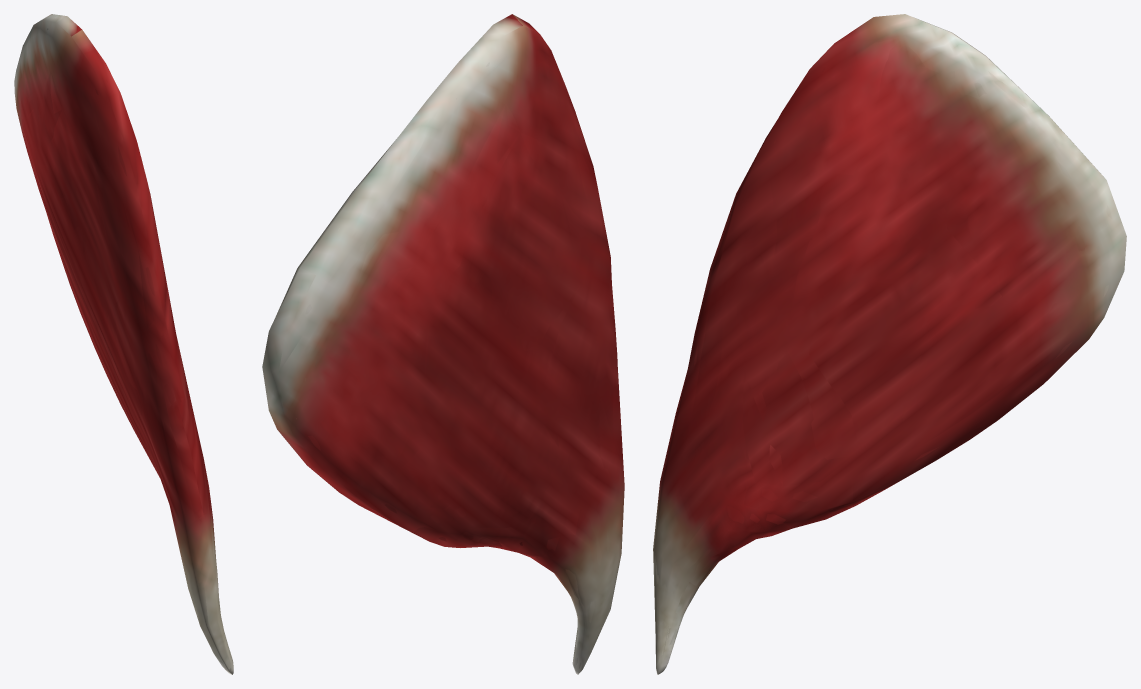
File: L Subscapularis.fbx
3 views of the same model, side by side, from view 1: azimuth 30°, elevation 25°; view 2: azimuth 150°, elevation 25°; view 3: azimuth 270°, elevation 25° (orthographic). The views are drawn at different scales.
Visible parts, largest first — view 1: L Subscapularis, L Subscapularis low, L Subscapularis high; view 2: L Subscapularis, L Subscapularis low, L Subscapularis high; view 3: L Subscapularis, L Subscapularis low, L Subscapularis high.
Boxes of the visible parts, <box> form: L Subscapularis: <box>14,14,233,674</box>; L Subscapularis low: <box>14,16,233,673</box>; L Subscapularis high: <box>17,18,231,665</box>; L Subscapularis: <box>262,14,624,674</box>; L Subscapularis low: <box>270,24,624,674</box>; L Subscapularis high: <box>273,24,621,668</box>; L Subscapularis: <box>653,14,1126,674</box>; L Subscapularis low: <box>653,14,1126,667</box>; L Subscapularis high: <box>654,46,1111,657</box>.
Bounding box in the file's own units: 1.29 × 7.57 × 5.12.
Materials: 1 (1 with a texture image).
